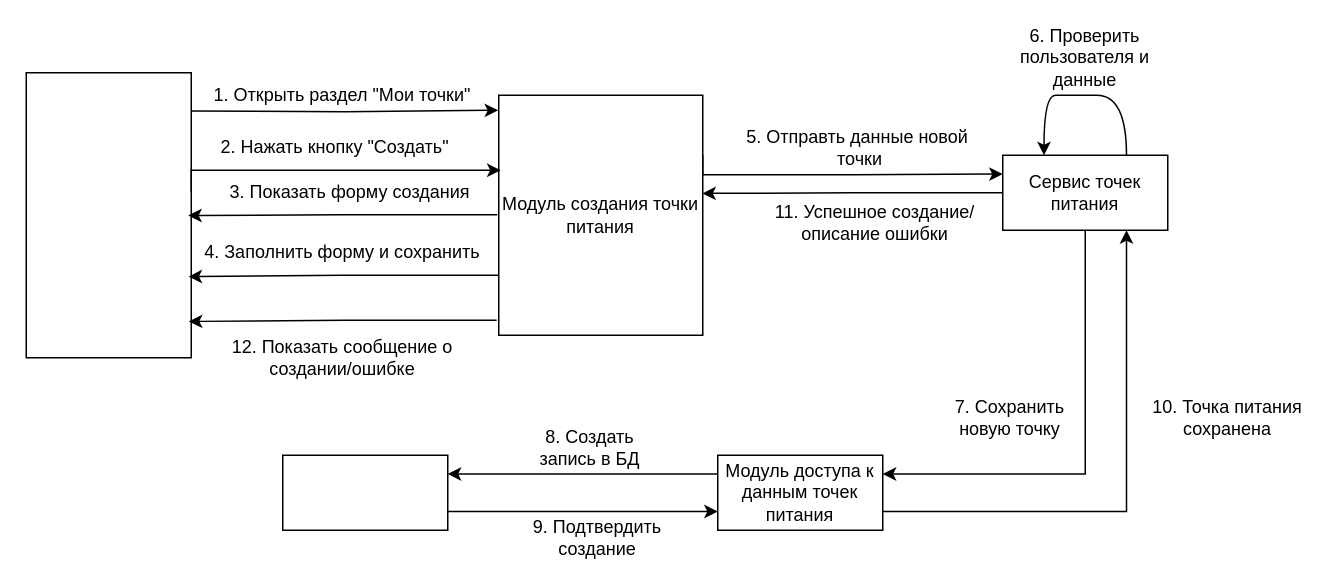
This 1344x587 diagram has some shape labels left out. The box of each missing label's shape, as (x1, y1, x2, y2) in pixels:
БД: (281, 454, 448, 530)
Партнер: (25, 71, 191, 358)
